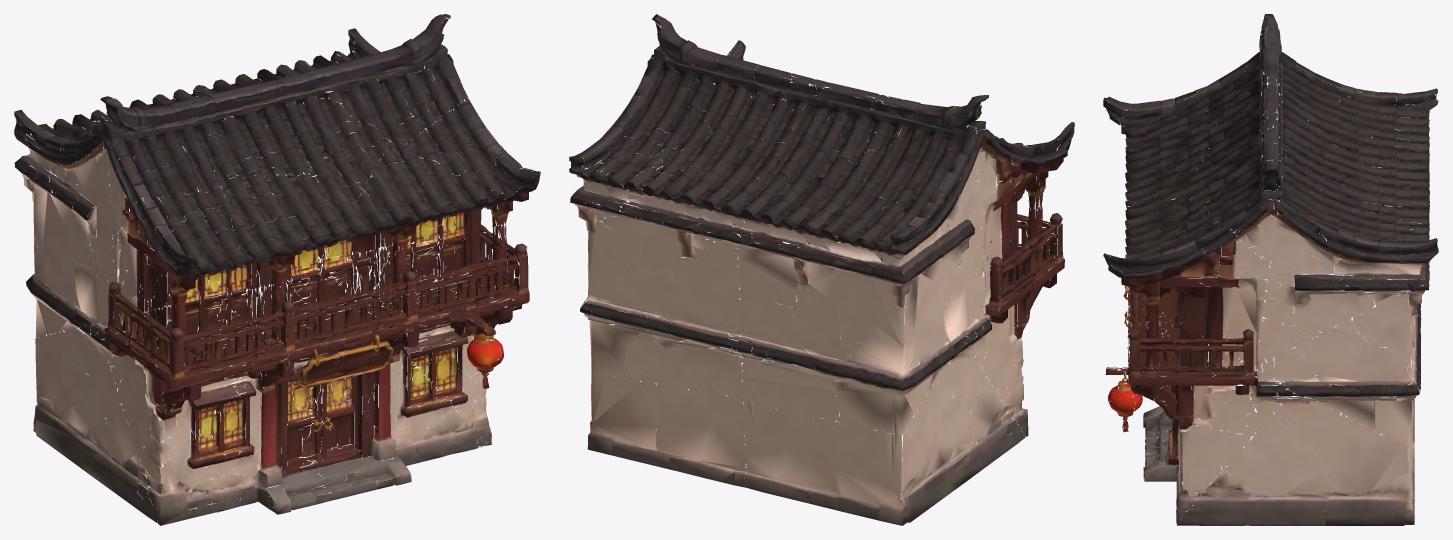
Rendered from house_g_40k.glb.
3 views of the same model, side by side, from view 1: azimuth 30°, elevation 25°; view 2: azimuth 150°, elevation 25°; view 3: azimuth 270°, elevation 25° (orthographic). The views are drawn at different scales.
Parts seen in each view (by area): view 1: tripo_node_bb624d69-34ae-494c-9a8b-686c0e2e5d29; view 2: tripo_node_bb624d69-34ae-494c-9a8b-686c0e2e5d29; view 3: tripo_node_bb624d69-34ae-494c-9a8b-686c0e2e5d29.
Boxes of the visible parts, x1,y1,x2,y2 form: tripo_node_bb624d69-34ae-494c-9a8b-686c0e2e5d29: [14, 14, 540, 525]; tripo_node_bb624d69-34ae-494c-9a8b-686c0e2e5d29: [569, 14, 1074, 525]; tripo_node_bb624d69-34ae-494c-9a8b-686c0e2e5d29: [1103, 14, 1438, 525].
Size of the model in its own units: 0.934 by 0.9798 by 0.8255.
1 material, 1 textured.
